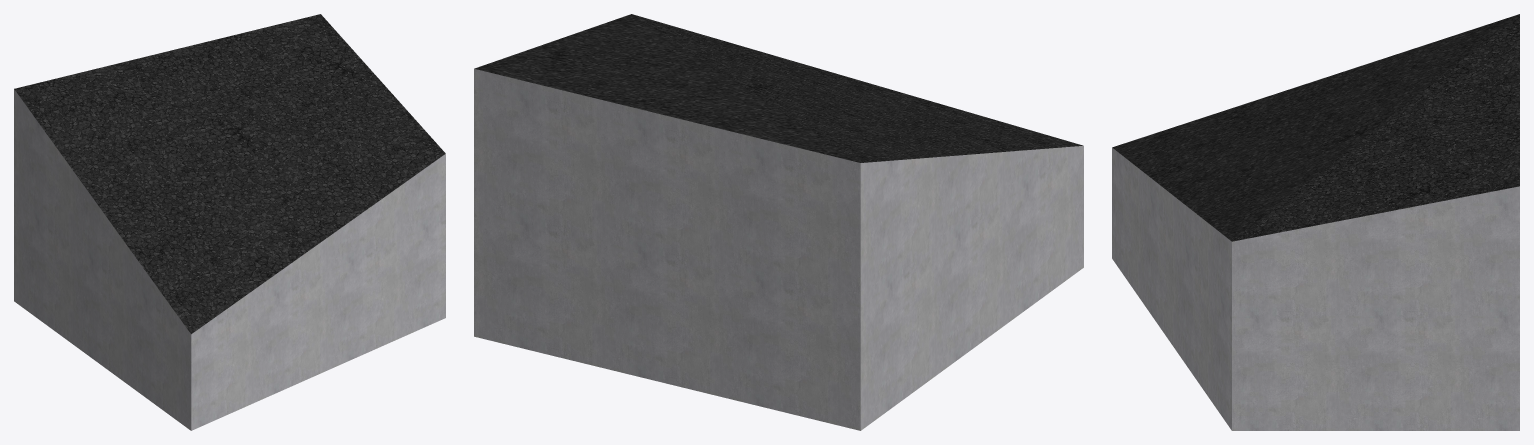
The model's file is dbe.glb.
The picture shows the model from 3 angles, left to right: view 1: azimuth 30°, elevation 25°; view 2: azimuth 150°, elevation 25°; view 3: azimuth 270°, elevation 25°; orthographic projection. The views are drawn at different scales.
Parts seen in each view (by area): view 1: root; view 2: root; view 3: root.
Boxes of the visible parts, bbox=[...] form: root: bbox=[14, 14, 445, 430]; root: bbox=[474, 14, 1083, 430]; root: bbox=[1112, 14, 1519, 430].
Bounding box in the file's own units: 5 × 3.31 × 5.
3 materials, 2 textured.
